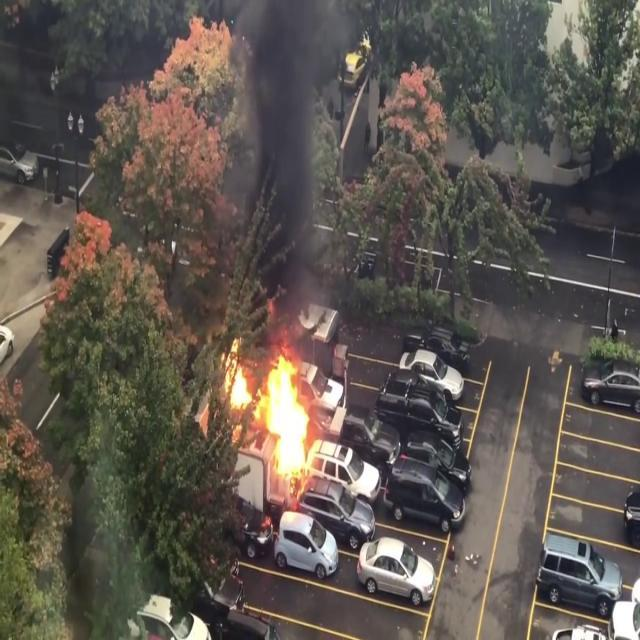Fire: (220, 338, 330, 482)
Smoke: (240, 0, 326, 345)
